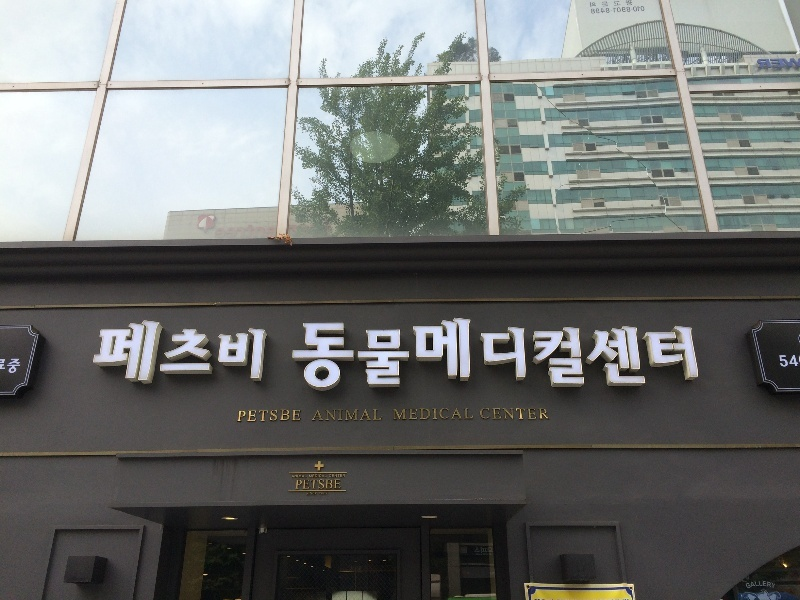text: (289, 318, 304, 390), (305, 318, 320, 390), (321, 318, 336, 390), (337, 318, 352, 390), (353, 318, 368, 390), (369, 318, 384, 390), (385, 318, 400, 390), (401, 318, 416, 390), (417, 318, 432, 390), (433, 318, 448, 390), (449, 318, 464, 390), (465, 318, 480, 390), (481, 318, 496, 390), (497, 318, 512, 390), (513, 318, 528, 390), (529, 318, 544, 390), (545, 318, 560, 390), (561, 318, 576, 390), (577, 318, 592, 390), (593, 318, 608, 390), (609, 318, 624, 390), (625, 318, 640, 390), (641, 318, 656, 390), (657, 318, 672, 390), (673, 318, 688, 390), (689, 318, 704, 390), (113, 316, 128, 383), (129, 316, 144, 383), (145, 316, 160, 383), (161, 316, 176, 383), (177, 316, 192, 383), (193, 316, 208, 383), (209, 316, 224, 383), (225, 316, 240, 383), (241, 316, 256, 383), (98, 316, 112, 383), (257, 316, 267, 383), (241, 410, 256, 422), (257, 410, 272, 422), (273, 410, 288, 422), (321, 409, 336, 421), (337, 409, 352, 421), (353, 409, 368, 421), (401, 408, 416, 420), (417, 408, 432, 420), (433, 408, 448, 420), (449, 408, 464, 420), (785, 355, 800, 367), (369, 409, 383, 421), (481, 408, 496, 419), (497, 408, 512, 419), (513, 408, 528, 419), (529, 408, 544, 419), (1, 359, 16, 370), (769, 58, 784, 68), (785, 58, 800, 68), (289, 410, 301, 422), (305, 480, 320, 489), (321, 480, 336, 489), (593, 6, 608, 15), (609, 6, 624, 15), (625, 6, 640, 15), (465, 408, 476, 420), (753, 581, 768, 589), (9, 358, 16, 374), (757, 58, 768, 68), (593, 1, 608, 8), (609, 1, 624, 8), (481, 547, 494, 554), (393, 408, 400, 420), (17, 358, 22, 374), (296, 480, 304, 489), (744, 581, 752, 589), (769, 581, 777, 589), (779, 355, 784, 367), (625, 1, 633, 8), (545, 408, 550, 419), (641, 6, 646, 15), (306, 492, 320, 495), (481, 553, 494, 556), (317, 409, 320, 421), (337, 480, 341, 489), (309, 475, 320, 478), (293, 475, 304, 478), (337, 474, 345, 478), (460, 546, 464, 554), (329, 474, 336, 478), (489, 572, 496, 576), (238, 410, 240, 422), (321, 492, 328, 495), (477, 547, 480, 554), (321, 475, 327, 478), (465, 546, 467, 554), (590, 1, 592, 8), (476, 553, 480, 556), (479, 408, 480, 419), (591, 6, 592, 15), (305, 475, 307, 478), (319, 492, 320, 495)
